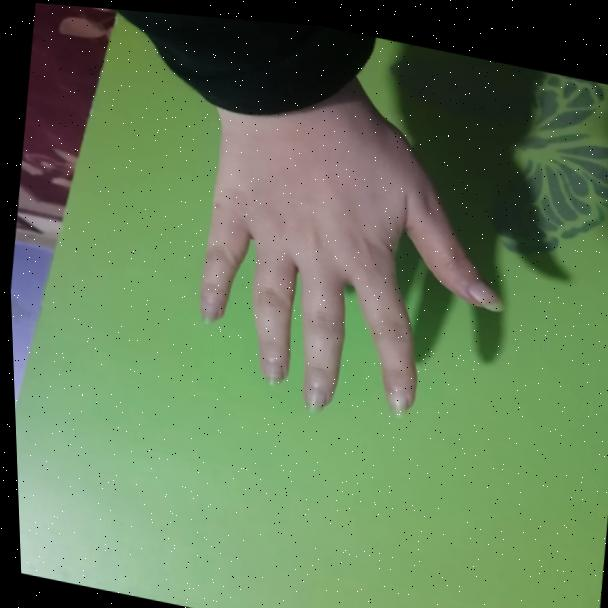five: (167, 85, 535, 448)
